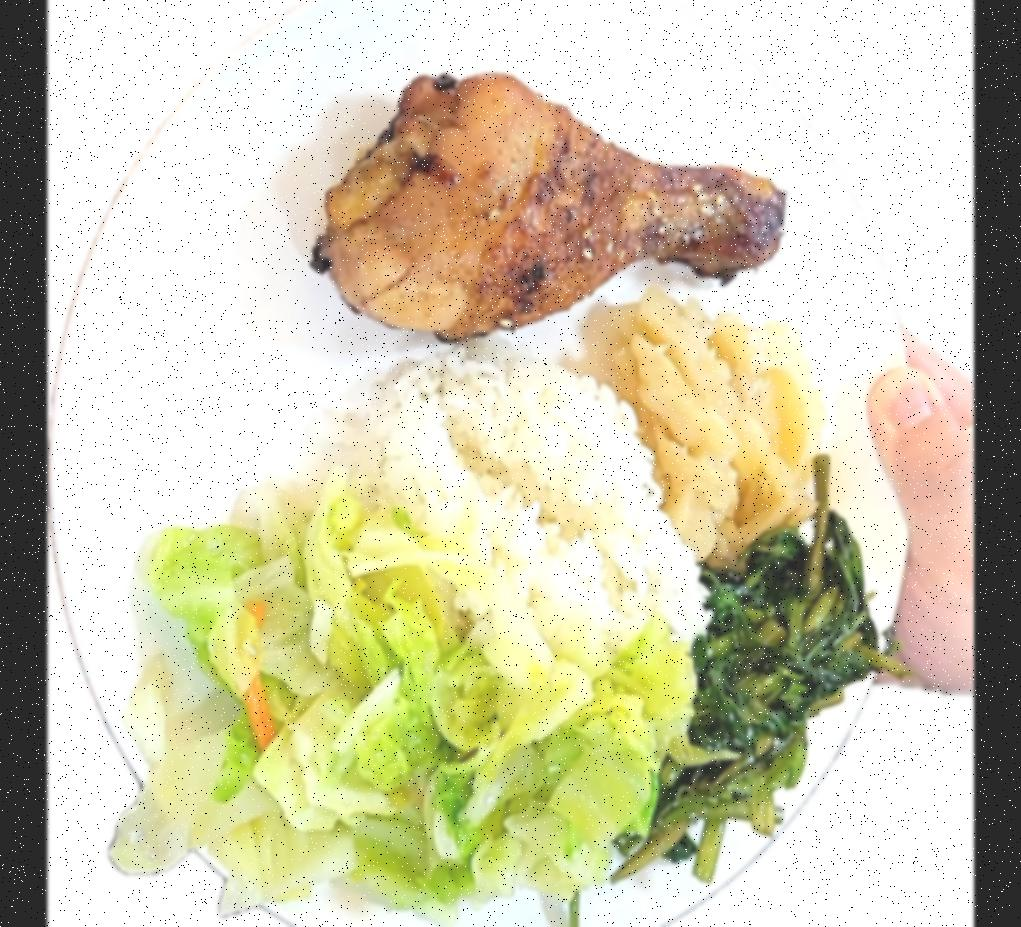big fried chicken leg: (47, 0, 922, 927)
big herbal chicken leg: (344, 350, 716, 652)
braised fish fillet: (109, 496, 697, 927), (624, 467, 894, 898), (616, 300, 835, 564)
braised pork: (302, 56, 800, 342)
